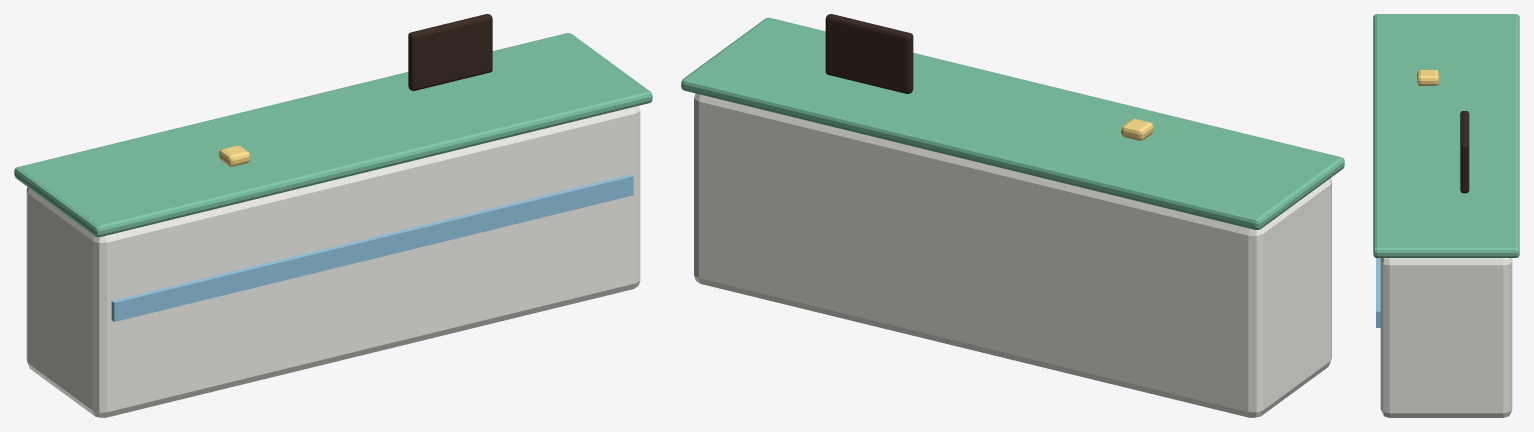
Rendered from int_resepsionis.fbx.
3 views of the same model, side by side, from view 1: azimuth 30°, elevation 25°; view 2: azimuth 150°, elevation 25°; view 3: azimuth 270°, elevation 25° (orthographic). The views are drawn at different scales.
Visible parts, largest first — view 1: int_resepsionis; view 2: int_resepsionis; view 3: int_resepsionis.
Boxes of the visible parts, left/top/right/bottom form: int_resepsionis: left=14, top=14, right=652, bottom=417; int_resepsionis: left=681, top=14, right=1344, bottom=417; int_resepsionis: left=1373, top=14, right=1519, bottom=417.
Size of the model in its own units: 306 by 140 by 80.
1 material, 1 textured.
